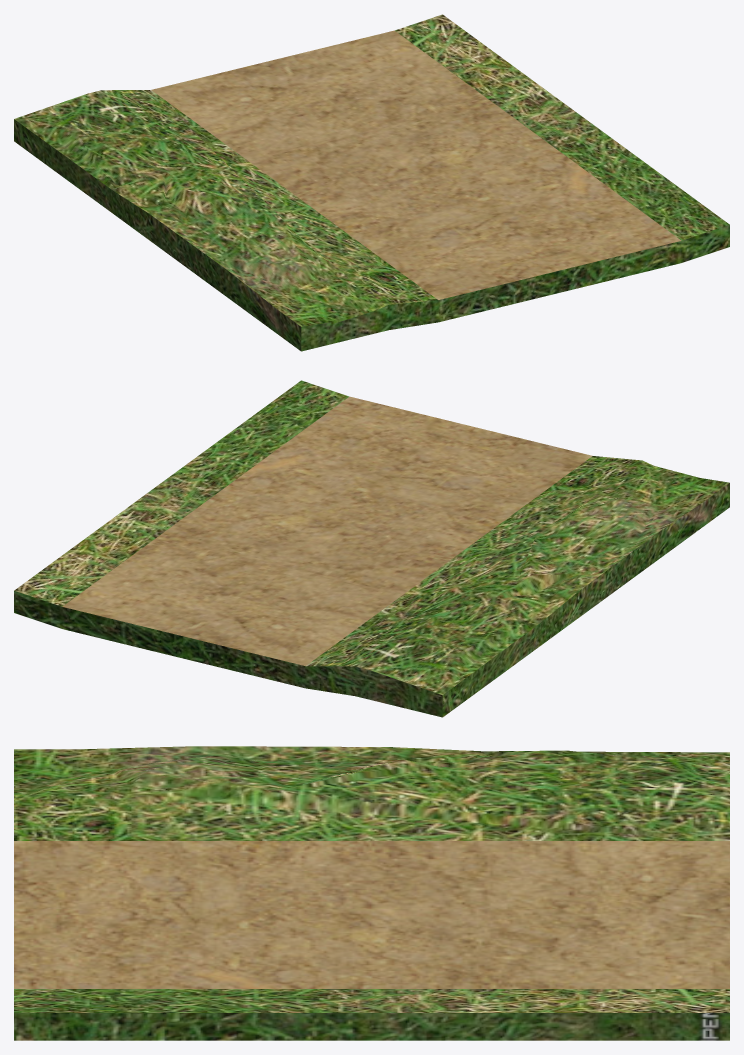
File: ground1.fbx
3 renders of one model, top to bottom at view 1: azimuth 30°, elevation 25°; view 2: azimuth 150°, elevation 25°; view 3: azimuth 270°, elevation 25°, orthographic. The views are drawn at different scales.
Visible parts, largest first — view 1: pCube1; view 2: pCube1; view 3: pCube1.
Boxes of the visible parts, <box> form: pCube1: <box>14,14,729,351</box>; pCube1: <box>14,380,729,717</box>; pCube1: <box>14,746,729,1040</box>.
Bounding box in the file's own units: 20.17 × 1.85 × 23.41.
Materials: 2 (2 with a texture image).
